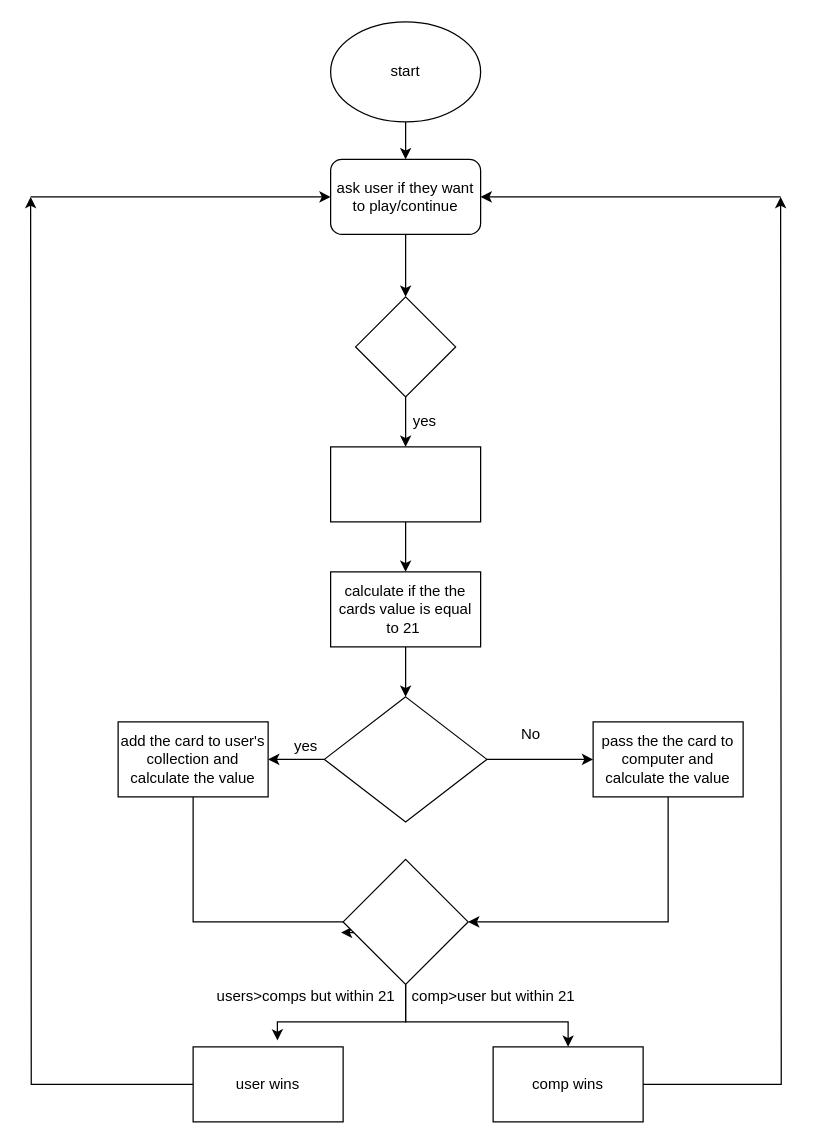
Some shapes in this 814 by 1144 pixel diagram are drawn without their labels. The box of each missing label's shape, as (x1, y1, x2, y2) in pixels:
ask the user to chose another card: (323, 696, 487, 822)
choice: (354, 296, 456, 397)
compare the values of users and computer's: (342, 858, 468, 984)
generate cards for the user and computer: (329, 446, 481, 522)
